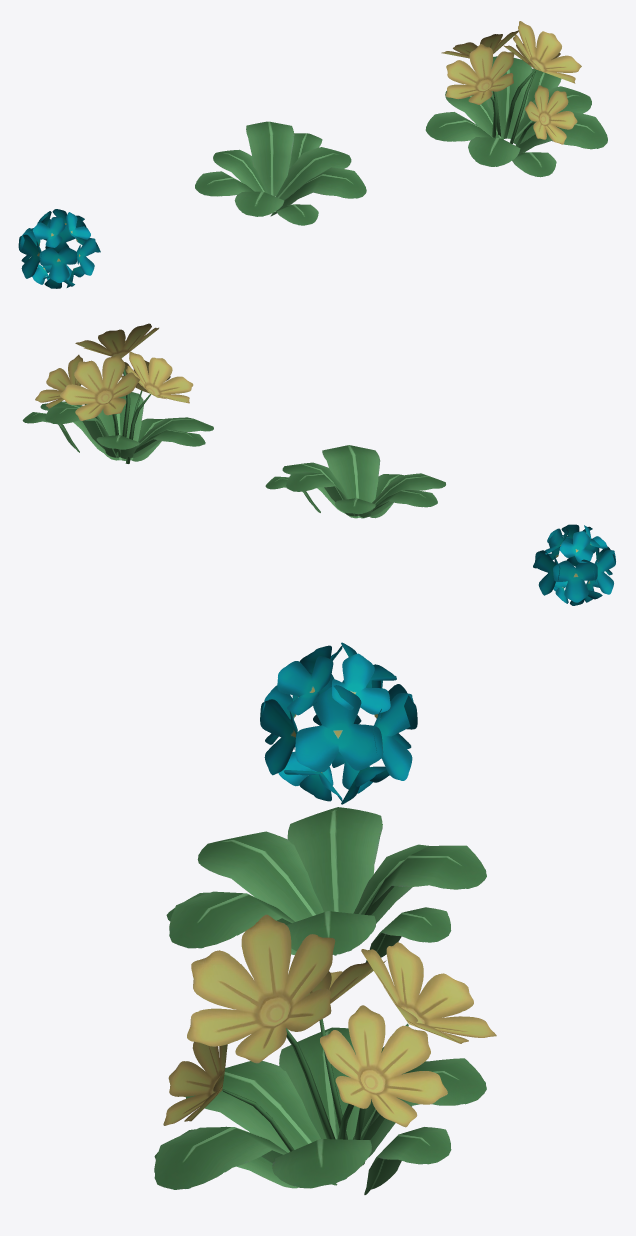
Rendered from flower_bushes_free_model.glb.
3 views of the same model, one above another, from view 1: azimuth 30°, elevation 25°; view 2: azimuth 150°, elevation 25°; view 3: azimuth 270°, elevation 25° (orthographic). The views are drawn at different scales.
Visible parts, largest first — view 1: Plant_Flowers, Plant_2, Petals_1; view 2: Plant_Flowers, Plant_2, Petals_1; view 3: Plant_Flowers, Plant_2, Petals_1.
Boxes of the visible parts, x1,y1,x2,y2 form: Plant_Flowers: (425, 21, 607, 177); Plant_2: (195, 121, 366, 225); Petals_1: (18, 209, 100, 288); Plant_Flowers: (22, 323, 213, 463); Plant_2: (265, 445, 445, 518); Petals_1: (533, 524, 615, 605); Plant_Flowers: (154, 914, 496, 1194); Plant_2: (166, 807, 486, 962); Petals_1: (260, 642, 417, 804).
Bounding box in the file's own units: 5 × 1.34 × 1.53.
1 material, 1 textured.
